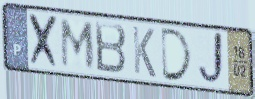B: (93, 19, 128, 77)
D: (160, 26, 195, 83)
J: (196, 30, 227, 89)
K: (130, 23, 157, 80)
M: (59, 17, 96, 71)
X: (27, 11, 62, 72)
